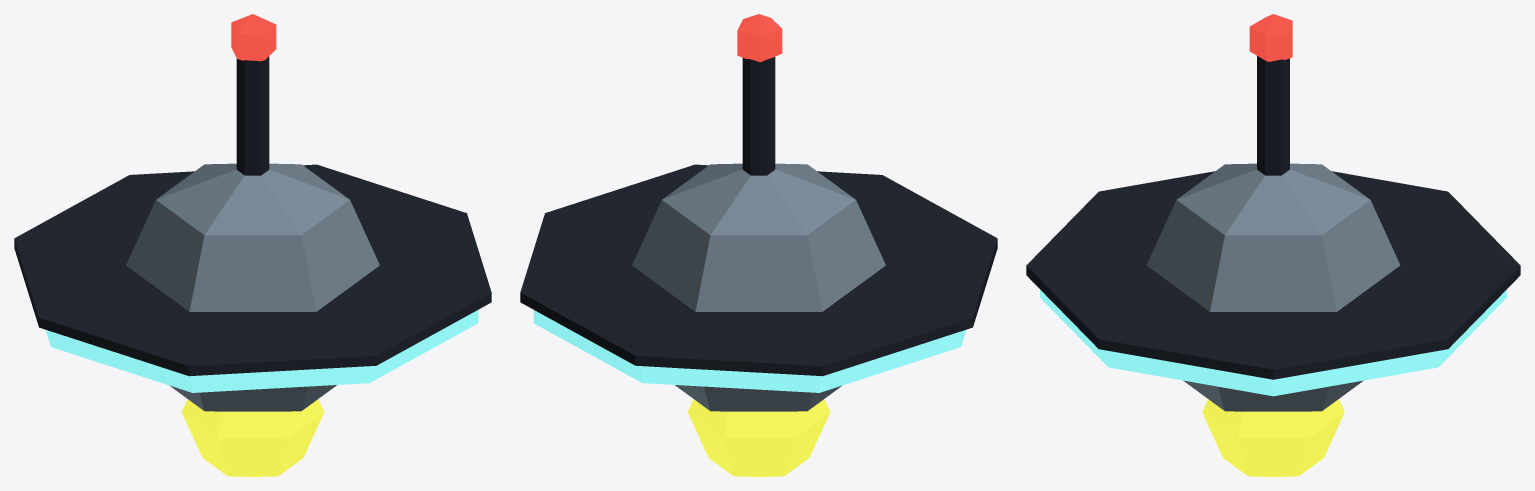
The model's file is City_Anchor.fbx.
3 views of the same model, side by side, from view 1: azimuth 30°, elevation 25°; view 2: azimuth 150°, elevation 25°; view 3: azimuth 270°, elevation 25° (orthographic).
Parts seen in each view (by area): view 1: City_Anchor; view 2: City_Anchor; view 3: City_Anchor.
Part boxes in pixels (box(x1,y1,x2,y2)): City_Anchor: box(14, 14, 491, 476); City_Anchor: box(520, 14, 997, 476); City_Anchor: box(1026, 14, 1520, 476).
Bounding box in the file's own units: 1.8 × 1.8 × 1.86.
